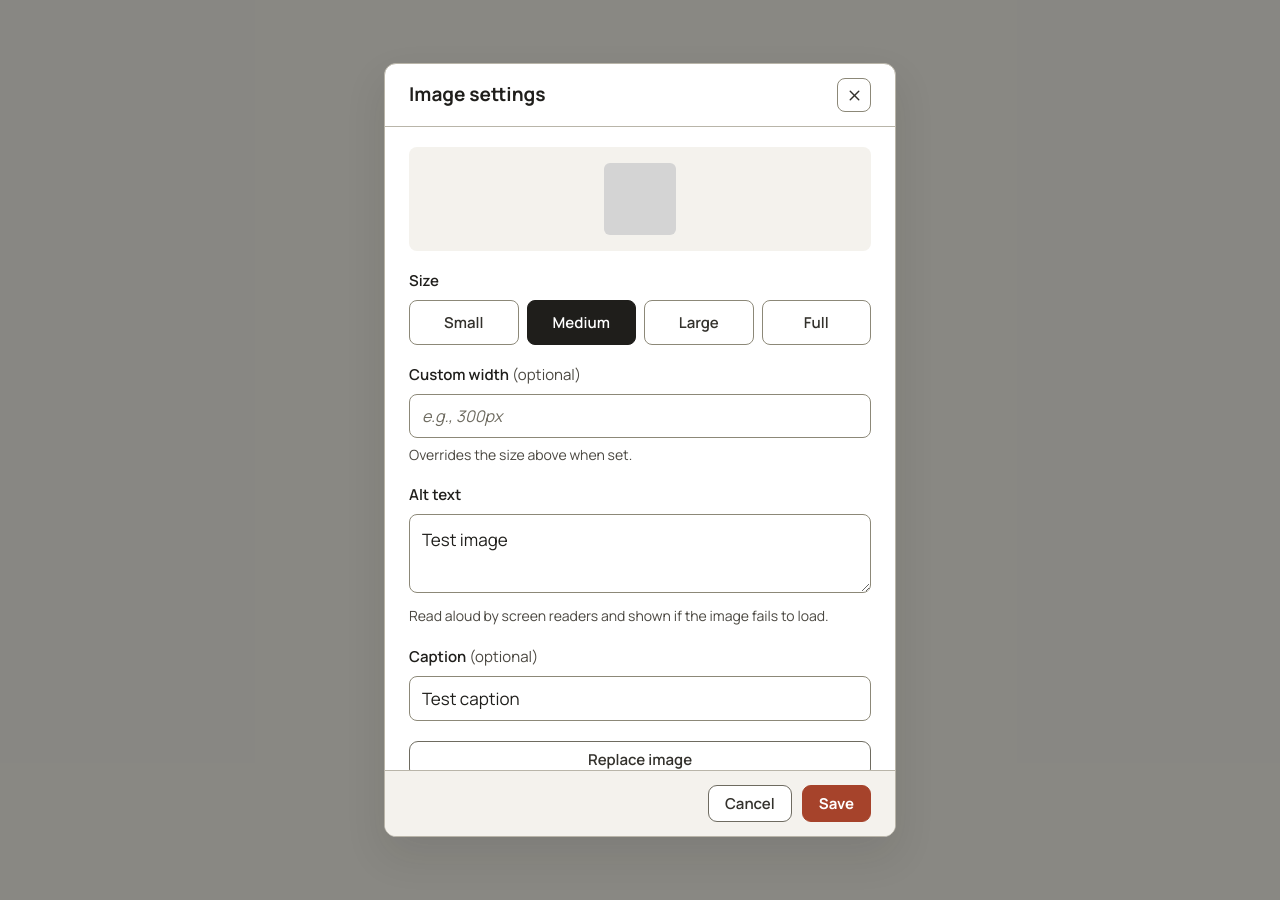
Test case: ImageSettingsModal › replace image flow › shows replace modal when Replace Image clicked
The image size is (1280, 900).
Click the button "Replace image". click: (640, 759)
box: [409, 741, 871, 778]
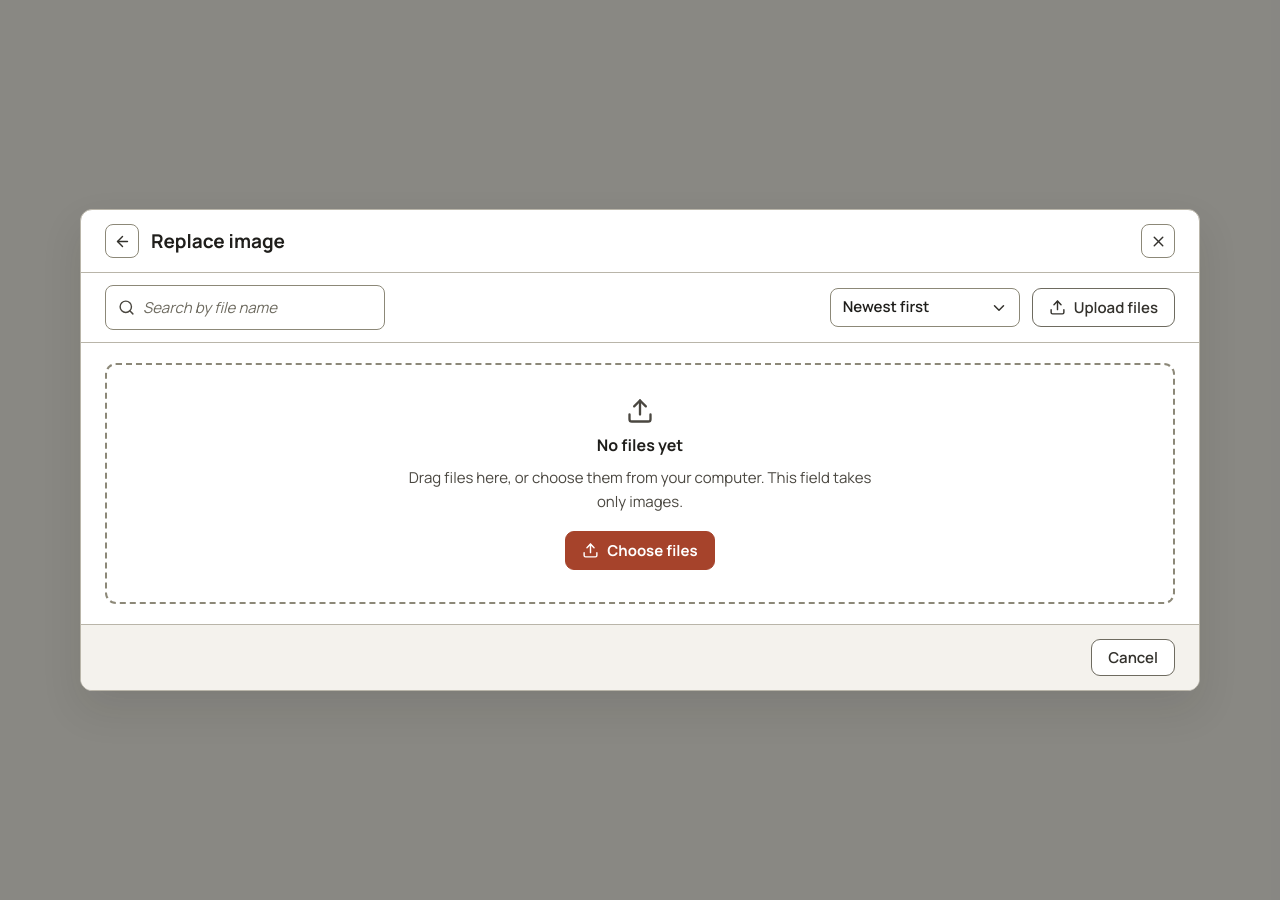
Expected: the dialog "Replace image" is shown, [80, 209, 1200, 691]
Expected: the button "Upload files" is shown, [1032, 288, 1175, 327]
